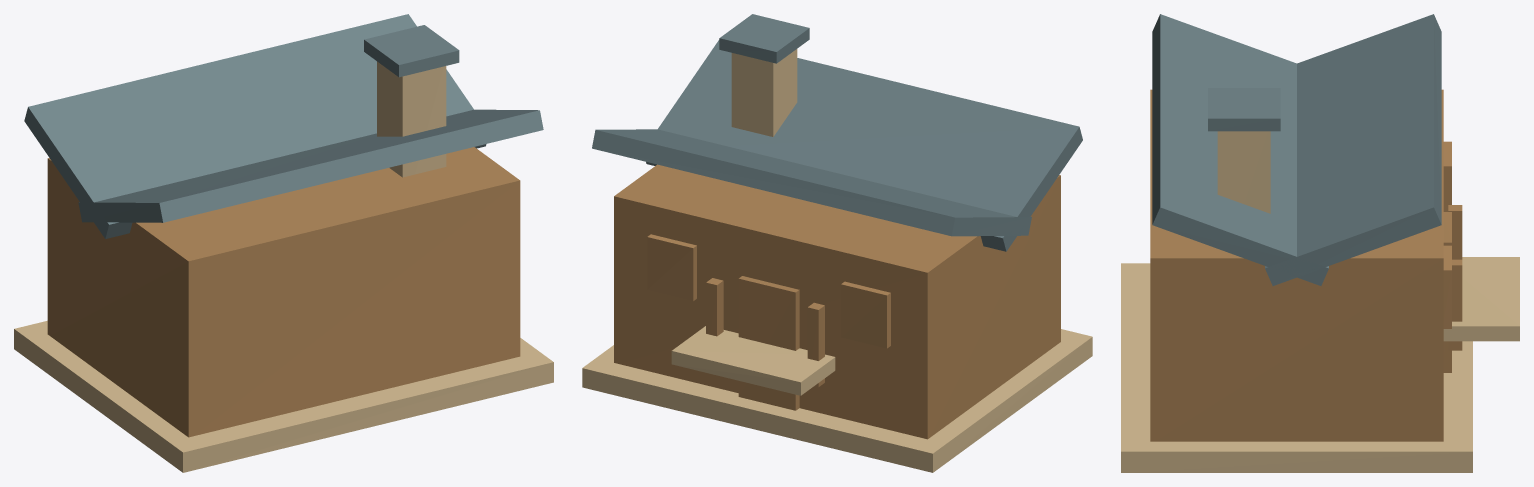
The model's file is Cottage.glb.
3 views of the same model, side by side, from view 1: azimuth 30°, elevation 25°; view 2: azimuth 150°, elevation 25°; view 3: azimuth 270°, elevation 25° (orthographic). The views are drawn at different scales.
Visible parts, largest first — view 1: cottage-static-cottage-timber, cottage-static-cottage-iron, cottage-static-cottage-cream, cottage-static-cottage-stone; view 2: cottage-static-cottage-timber, cottage-static-cottage-iron, cottage-static-cottage-cream, cottage-static-cottage-teal, cottage-static-cottage-stone; view 3: cottage-static-cottage-iron, cottage-static-cottage-timber, cottage-static-cottage-cream, cottage-static-cottage-stone, cottage-static-cottage-teal.
Part boxes in pixels (<box>): cottage-static-cottage-timber: <box>47,147,520,437</box>; cottage-static-cottage-iron: <box>24,14,543,238</box>; cottage-static-cottage-cream: <box>14,320,553,472</box>; cottage-static-cottage-stone: <box>377,61,446,177</box>; cottage-static-cottage-timber: <box>614,164,1060,439</box>; cottage-static-cottage-iron: <box>592,14,1082,251</box>; cottage-static-cottage-cream: <box>582,326,1092,472</box>; cottage-static-cottage-teal: <box>647,234,890,410</box>; cottage-static-cottage-stone: <box>731,49,797,136</box>; cottage-static-cottage-iron: <box>1152,14,1441,285</box>; cottage-static-cottage-timber: <box>1150,89,1443,441</box>; cottage-static-cottage-cream: <box>1121,257,1519,472</box>; cottage-static-cottage-stone: <box>1217,131,1270,213</box>; cottage-static-cottage-teal: <box>1443,141,1462,372</box>.
Bounding box in the file's own units: 3.9 × 3.08 × 3.4.
